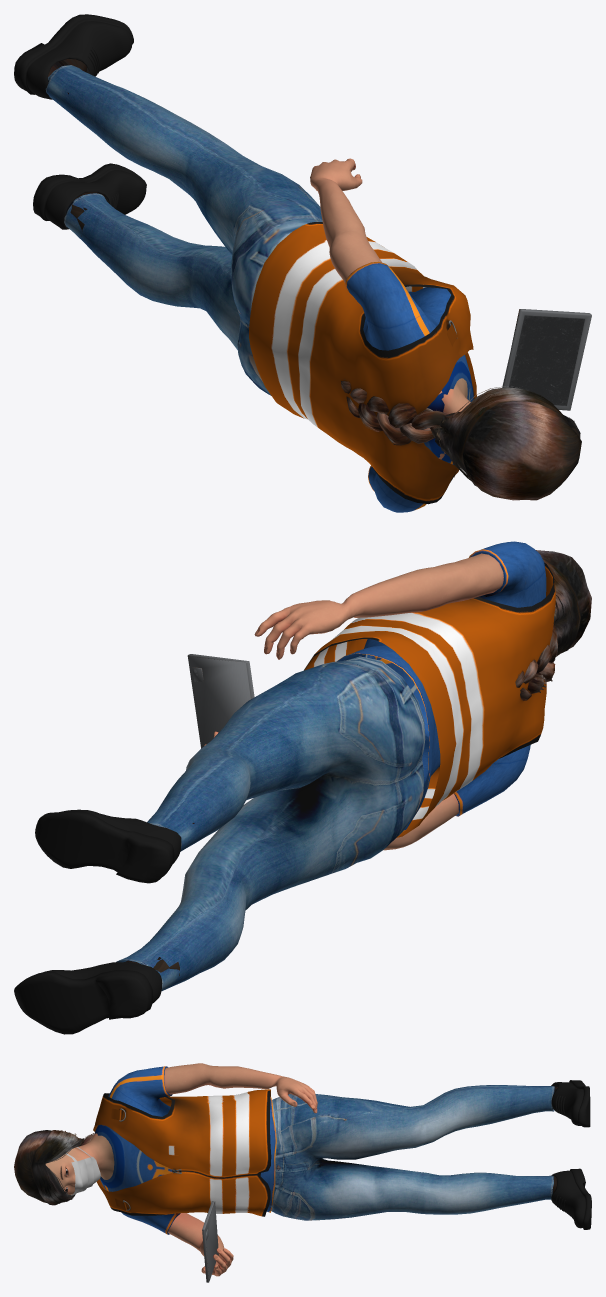
File: worker_tablet_review.obj
3 views of the same model, one above another, from view 1: azimuth 30°, elevation 25°; view 2: azimuth 150°, elevation 25°; view 3: azimuth 270°, elevation 25° (orthographic). The views are drawn at different scales.
Parts seen in each view (by area): view 1: worker_tablet_review; view 2: worker_tablet_review; view 3: worker_tablet_review.
Boxes of the visible parts, left/top/right/bottom form: worker_tablet_review: left=14, top=14, right=591, bottom=512; worker_tablet_review: left=14, top=541, right=591, bottom=1034; worker_tablet_review: left=14, top=1063, right=591, bottom=1282.
Bounding box in the file's own units: 0.6117 × 0.5641 × 1.68.
8 materials, 8 textured.
